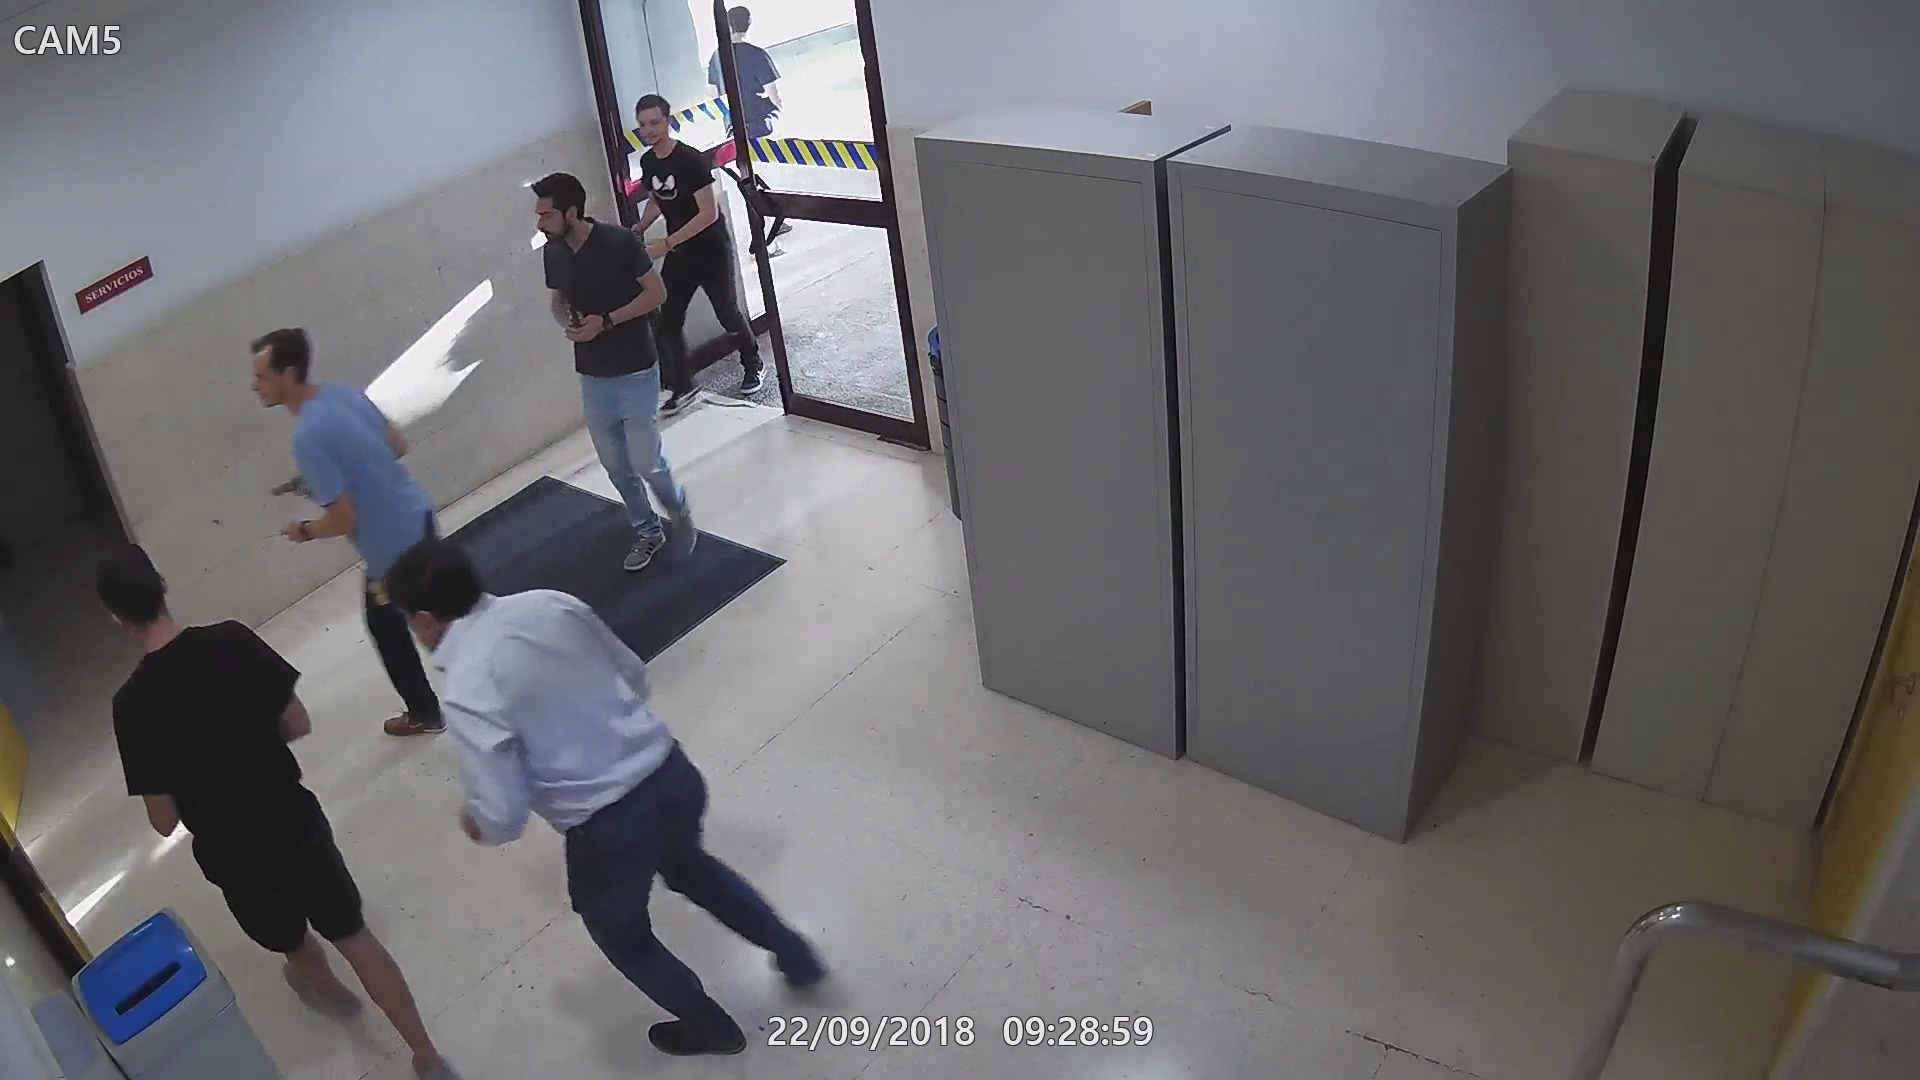Handgun: (265, 469, 313, 510), (556, 301, 591, 343)
Knife: (253, 518, 313, 556)
